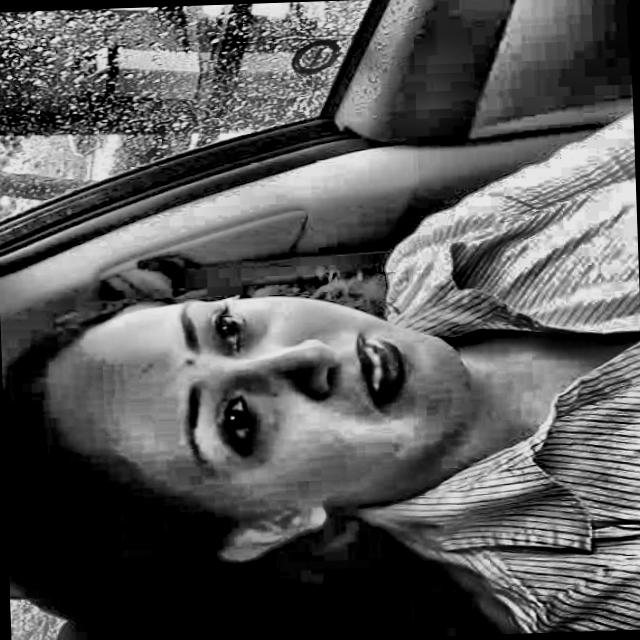closed_mouth: (343, 318, 439, 434)
open_eyes: (197, 386, 267, 461), (191, 296, 253, 358)
